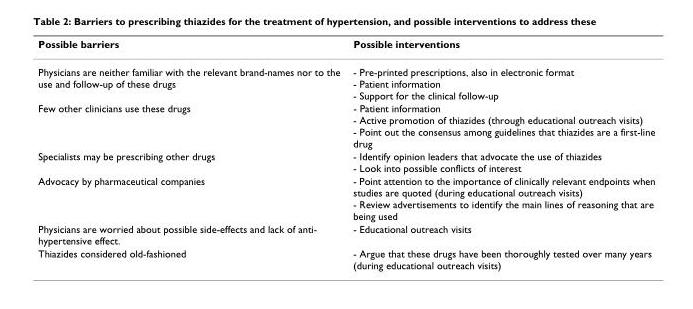table: (37, 37, 654, 270)
table column: (345, 37, 654, 270), (37, 37, 345, 270)
table column header: (37, 37, 654, 57)
table row: (37, 101, 654, 149), (37, 173, 654, 221), (37, 57, 654, 101), (37, 221, 654, 246), (37, 149, 654, 173), (37, 246, 654, 270), (37, 37, 654, 57)
